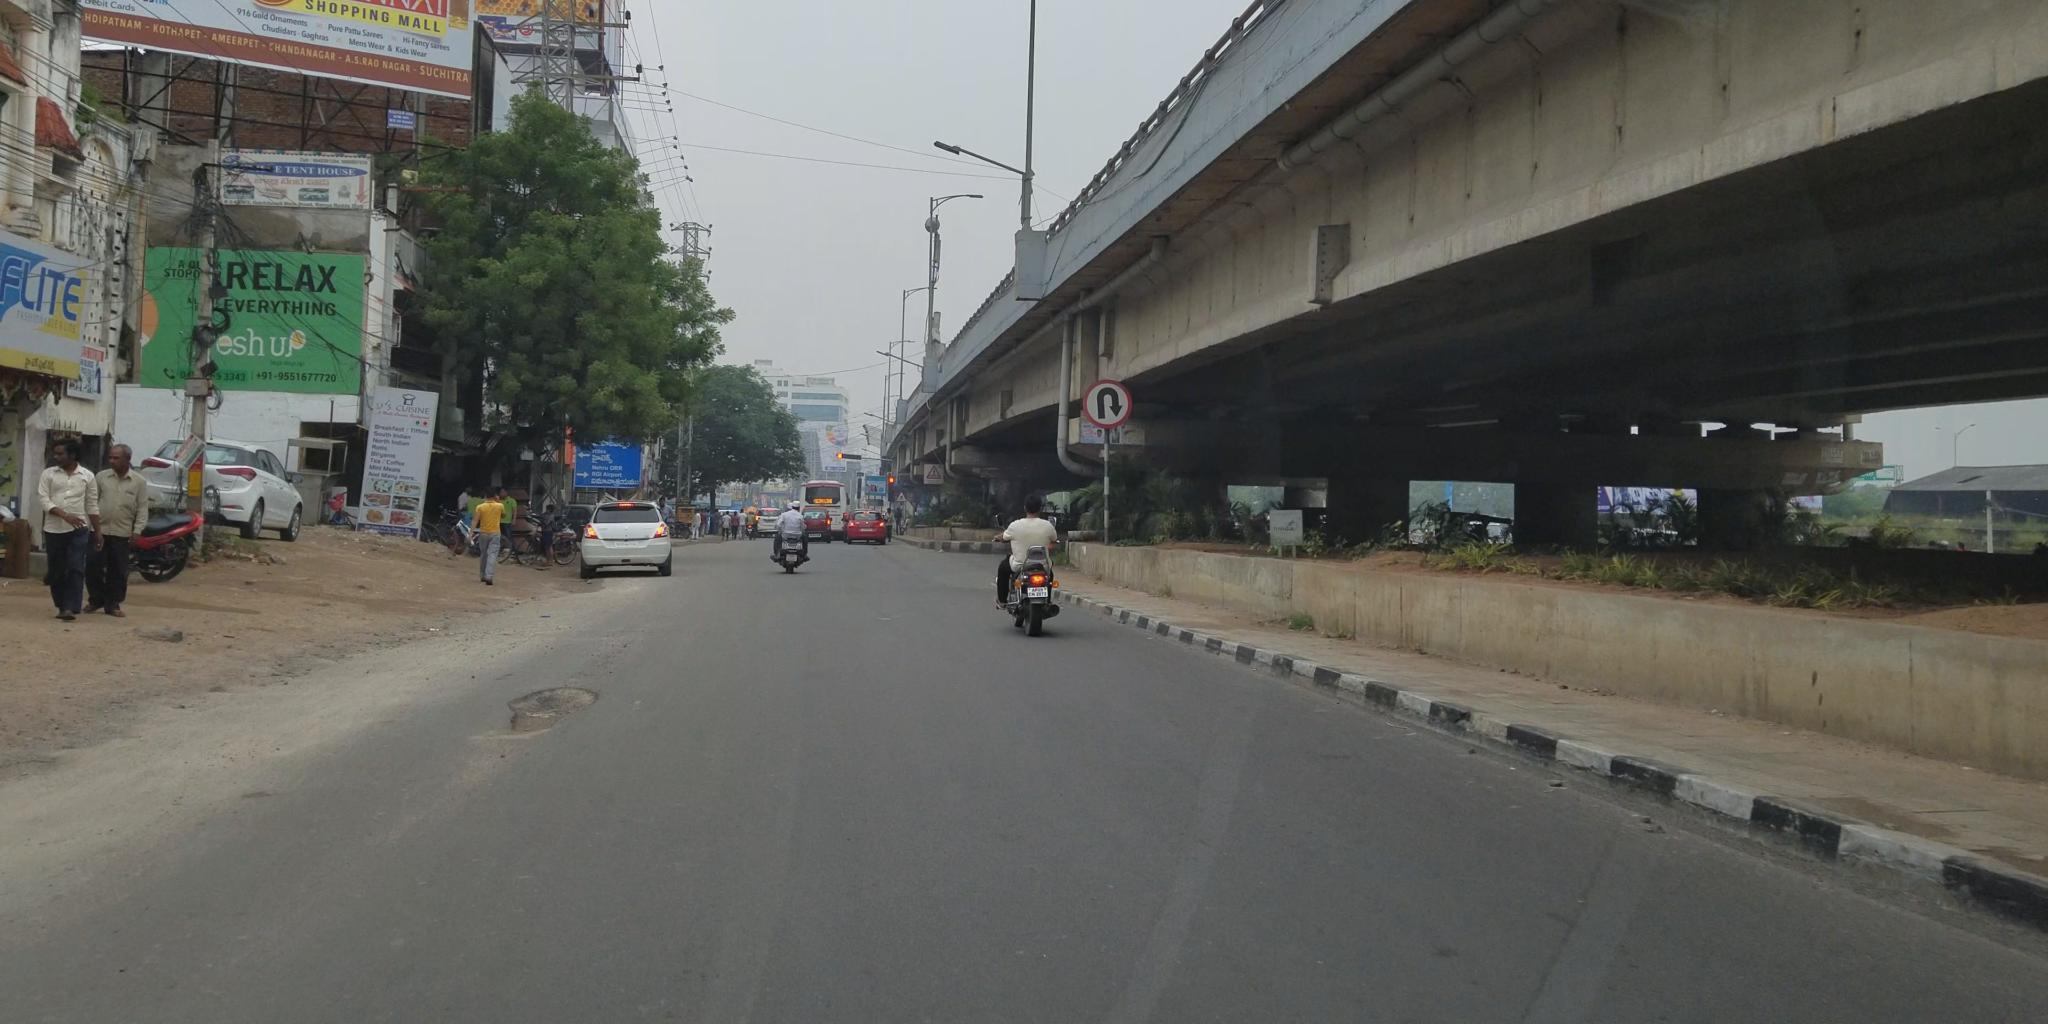off: (0, 0, 2048, 927)
